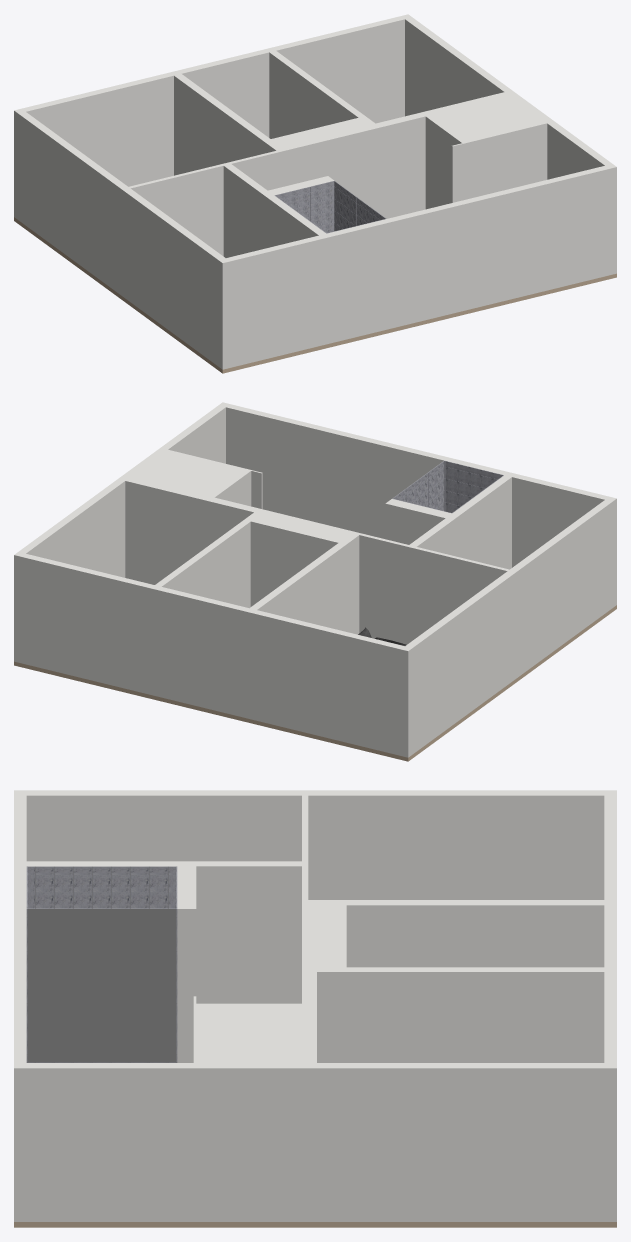
The model's file is flat.glb.
3 renders of one model, top to bottom at view 1: azimuth 30°, elevation 25°; view 2: azimuth 150°, elevation 25°; view 3: azimuth 270°, elevation 25°, orthographic. The views are drawn at different scales.
Parts seen in each view (by area): view 1: Стены, Пол; view 2: Стены, Пол; view 3: Стены, Затирка-wall_x1, Пол.
Boxes of the visible parts, x1,y1,x2,y2 form: Стены: [14, 14, 616, 369]; Пол: [14, 217, 616, 373]; Стены: [14, 402, 616, 757]; Пол: [14, 605, 616, 761]; Стены: [14, 790, 616, 1221]; Затирка-wall_x1: [27, 909, 176, 1062]; Пол: [14, 1222, 616, 1227].
Size of the model in its own units: 10.46 by 2.8 by 9.59.
Materials: 11 (8 with a texture image).
